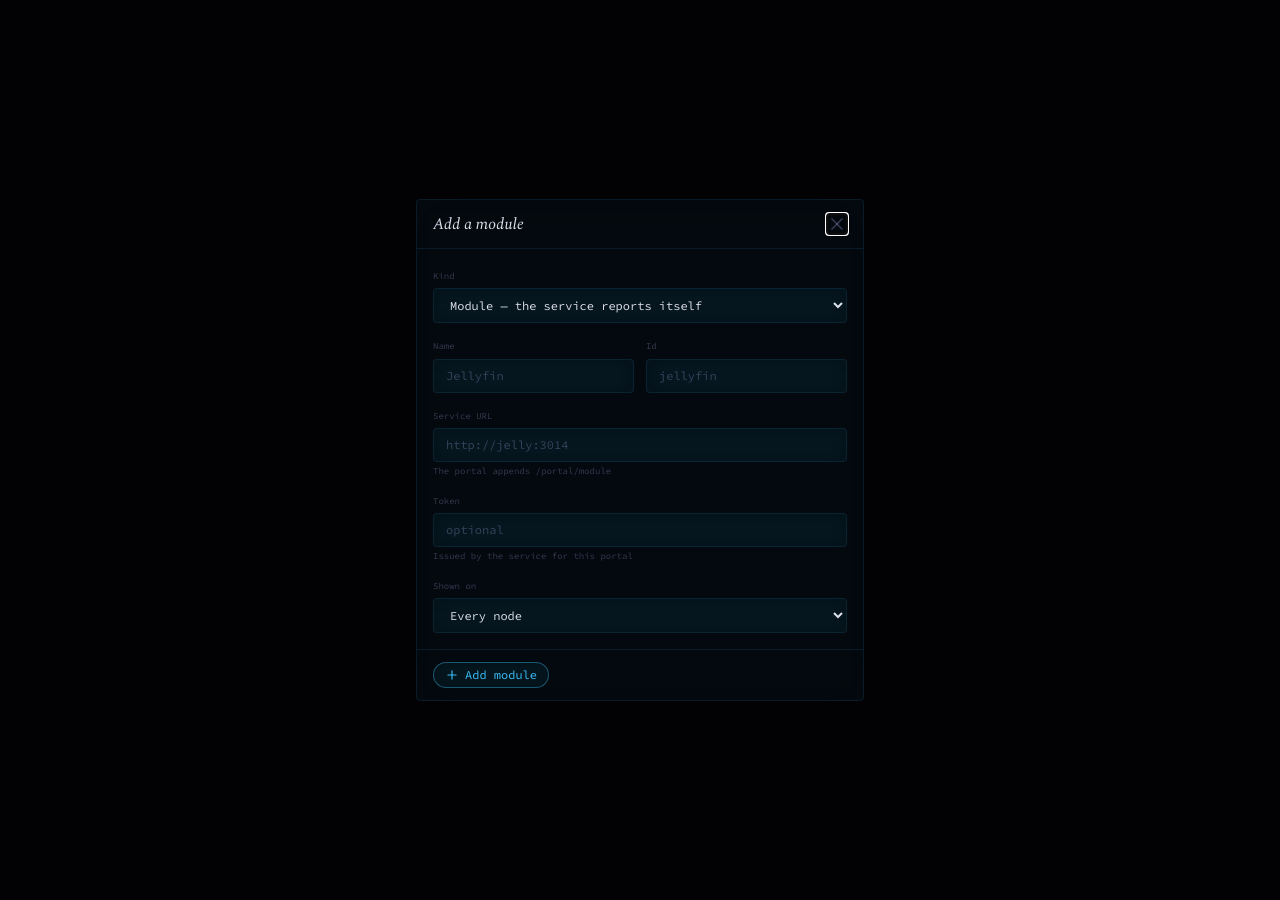
adding › rejects a malformed URL before submitting
The width and height of the screenshot is (1280, 900).
Type "Thing" into the field with placeholder "Jellyfin" at (534,376), box x1=433 y1=359 x2=634 y2=393
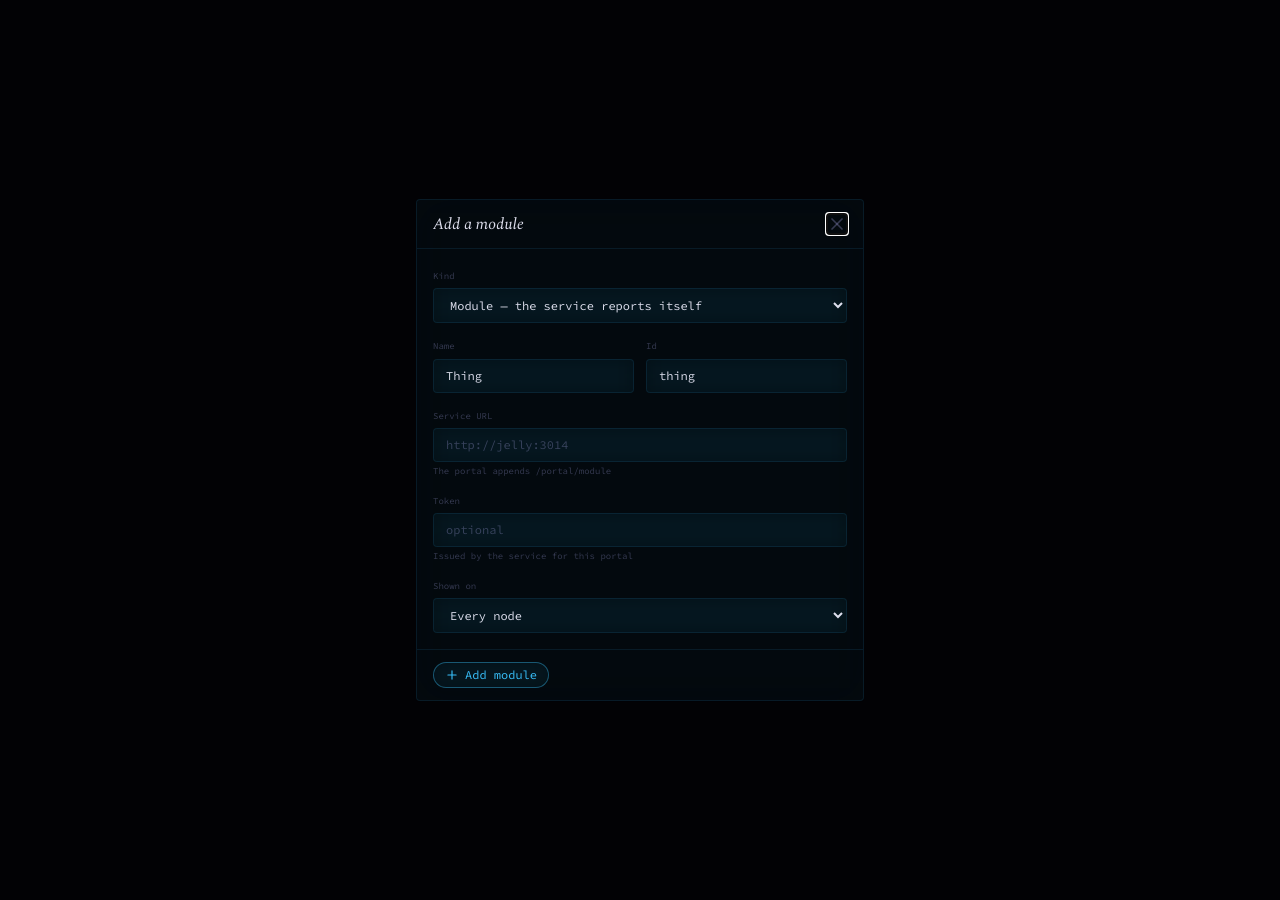
Type "jelly:3014" into the field with placeholder "http://jelly:3014" at (640,445), box x1=433 y1=428 x2=847 y2=462
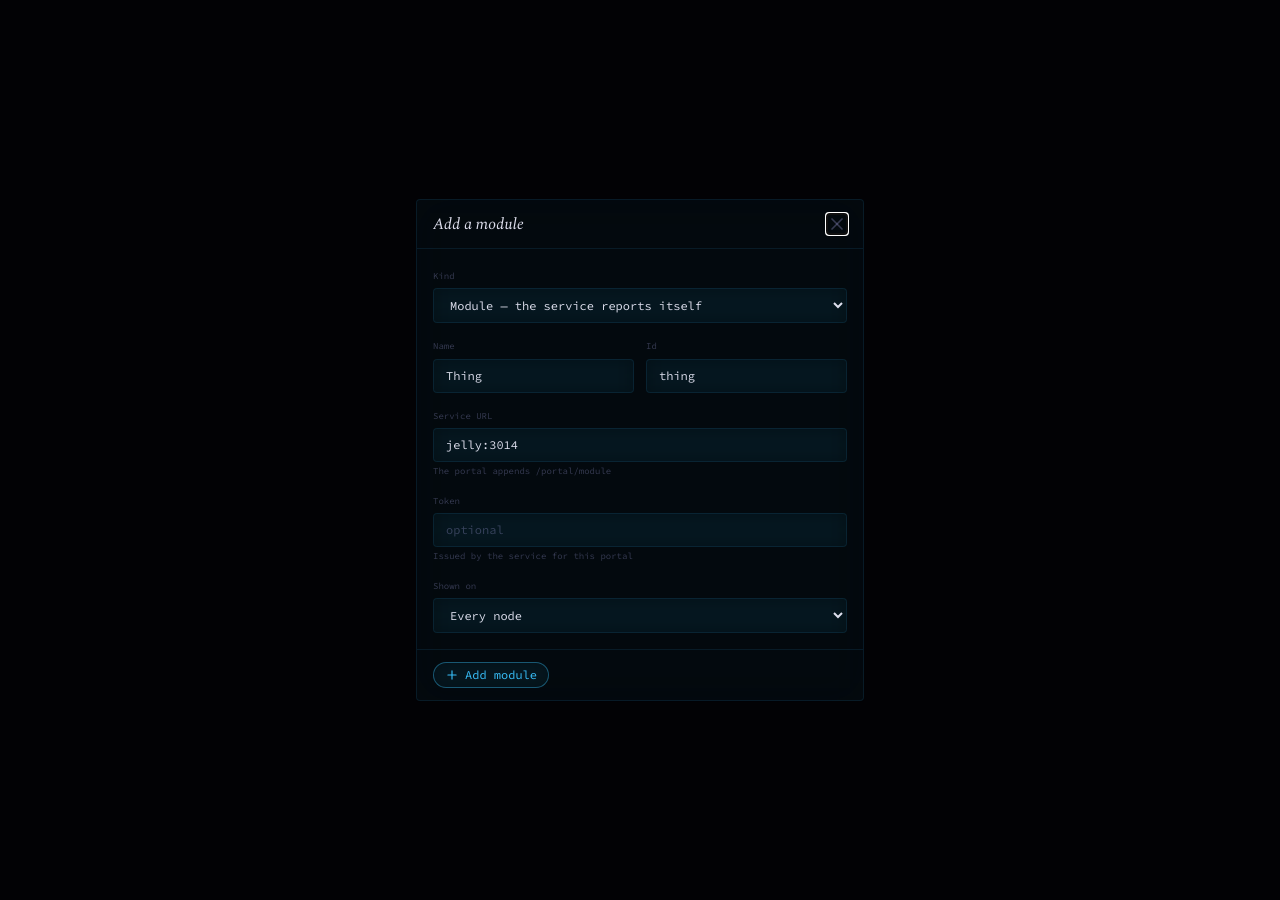
Click the button "Add module" at (491,675), box x1=433 y1=662 x2=549 y2=688
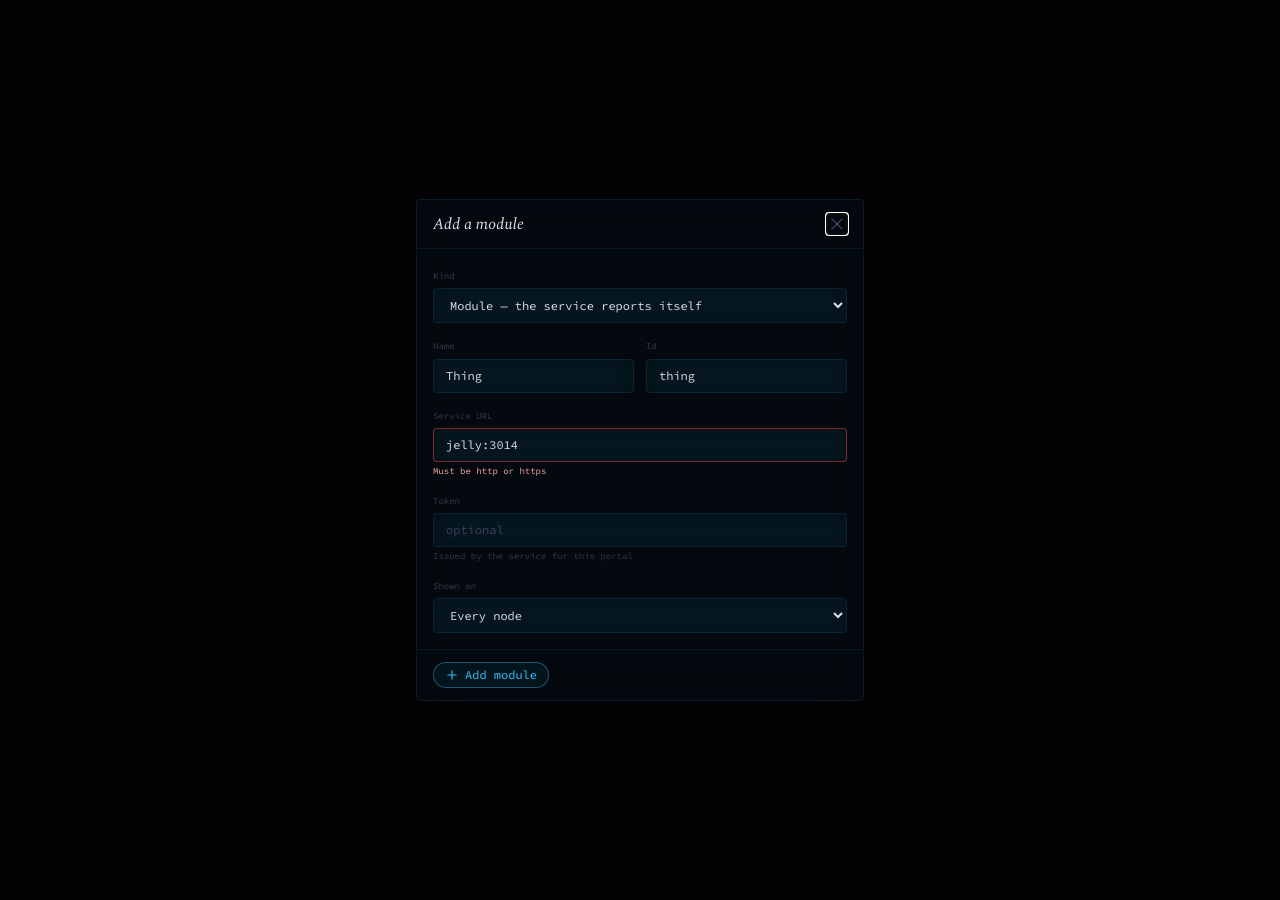
Expected: the text "Must be http or https" is shown, x1=433 y1=465 x2=546 y2=476
